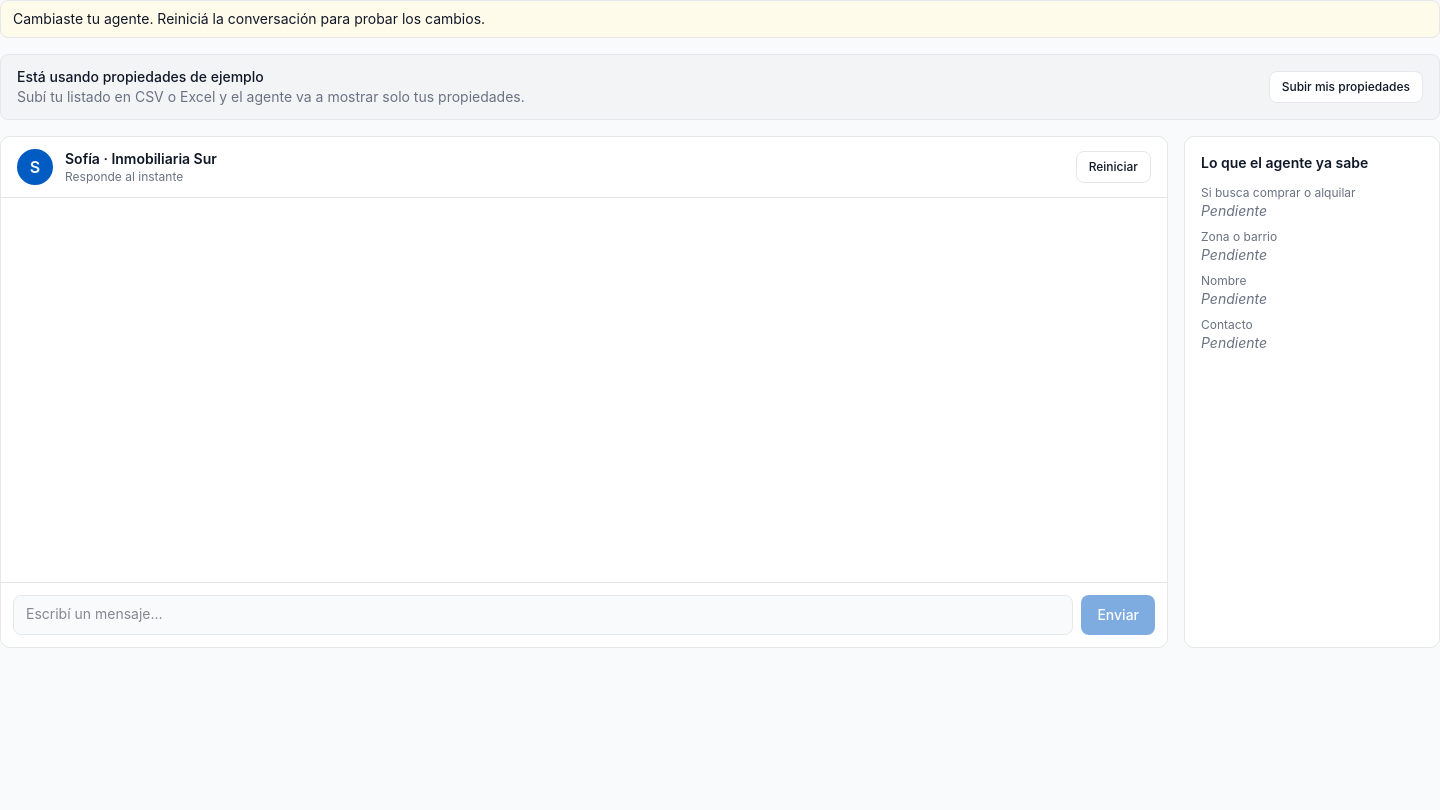
Test: SimulatorView › asks to restart when the agent changed and Reiniciar loads the new thread
Check: the text "Cambiaste tu agente. Reiniciá la conversación para probar los cambios." is shown, box 13,10 -> 485,27
Click the button "Reiniciar".
click(1113, 167)  # box 1076,151 -> 1151,183
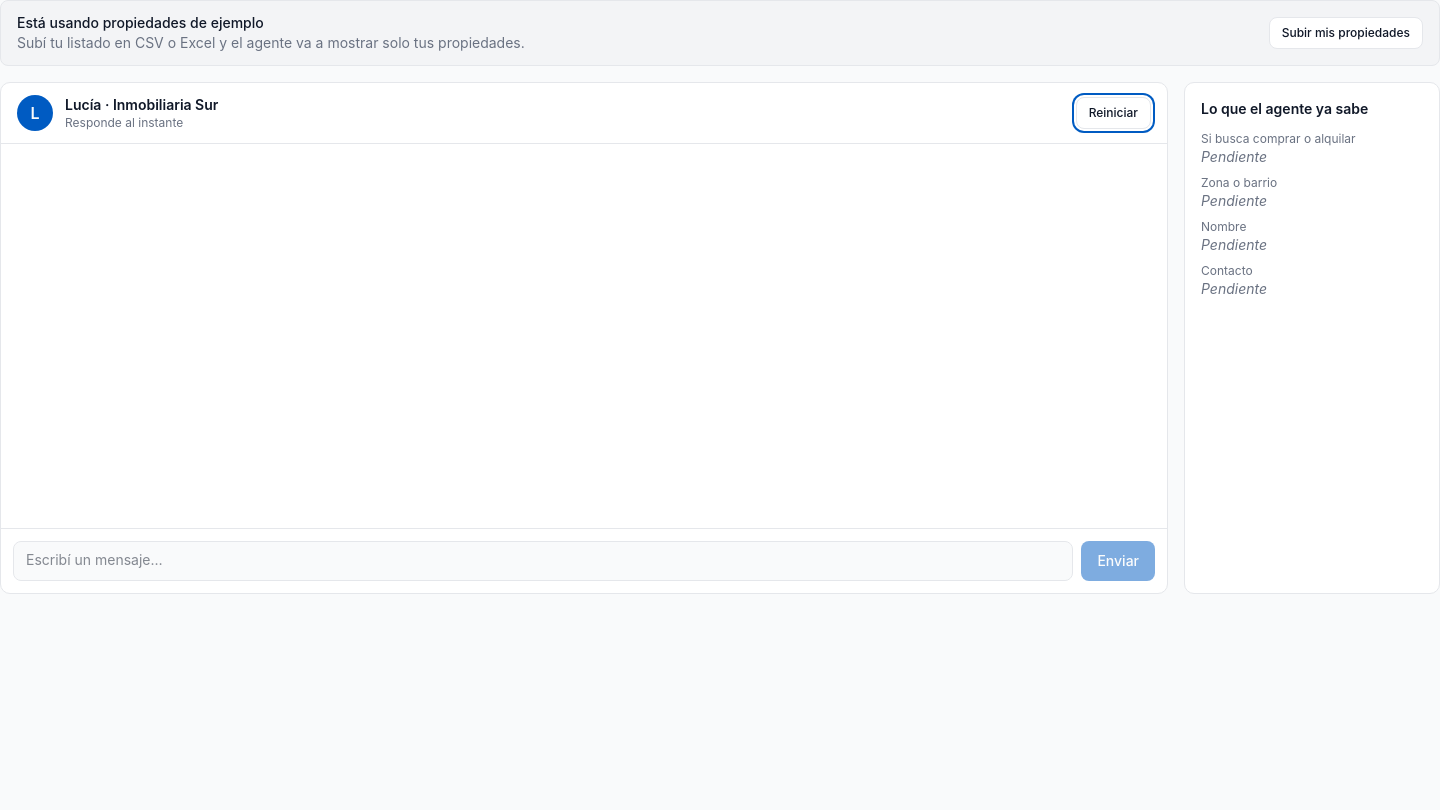
Check: the text "Lucía · Inmobiliaria Sur" is shown, box 65,96 -> 218,113
Check: the text "Cambiaste tu agente. Reiniciá la conversación para probar los cambios." is gone
